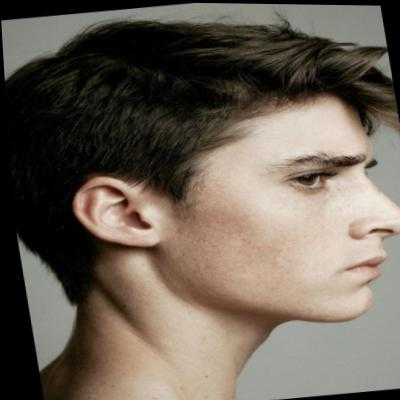netural: (150, 71, 400, 342)
